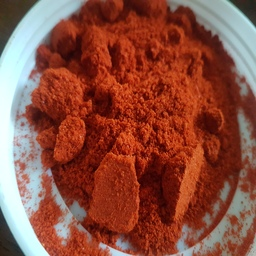Red chilli: (3, 1, 252, 247)
